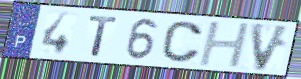4: (39, 11, 72, 57)
6: (125, 17, 160, 62)
C: (159, 20, 205, 65)
H: (196, 21, 252, 69)
T: (87, 14, 121, 58)
V: (249, 21, 293, 73)
